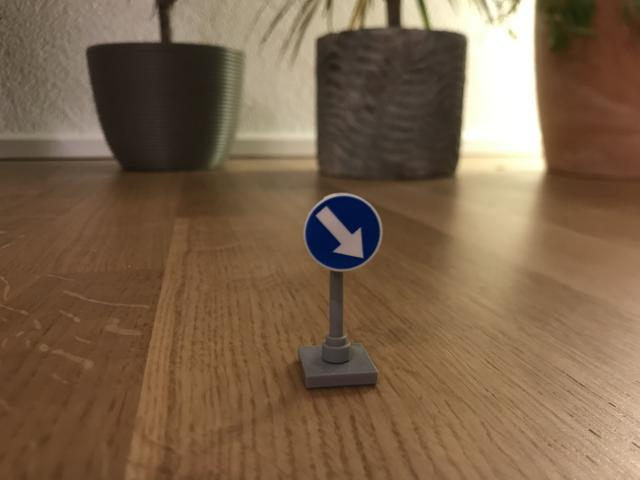rechts halten: (306, 191, 384, 273)
